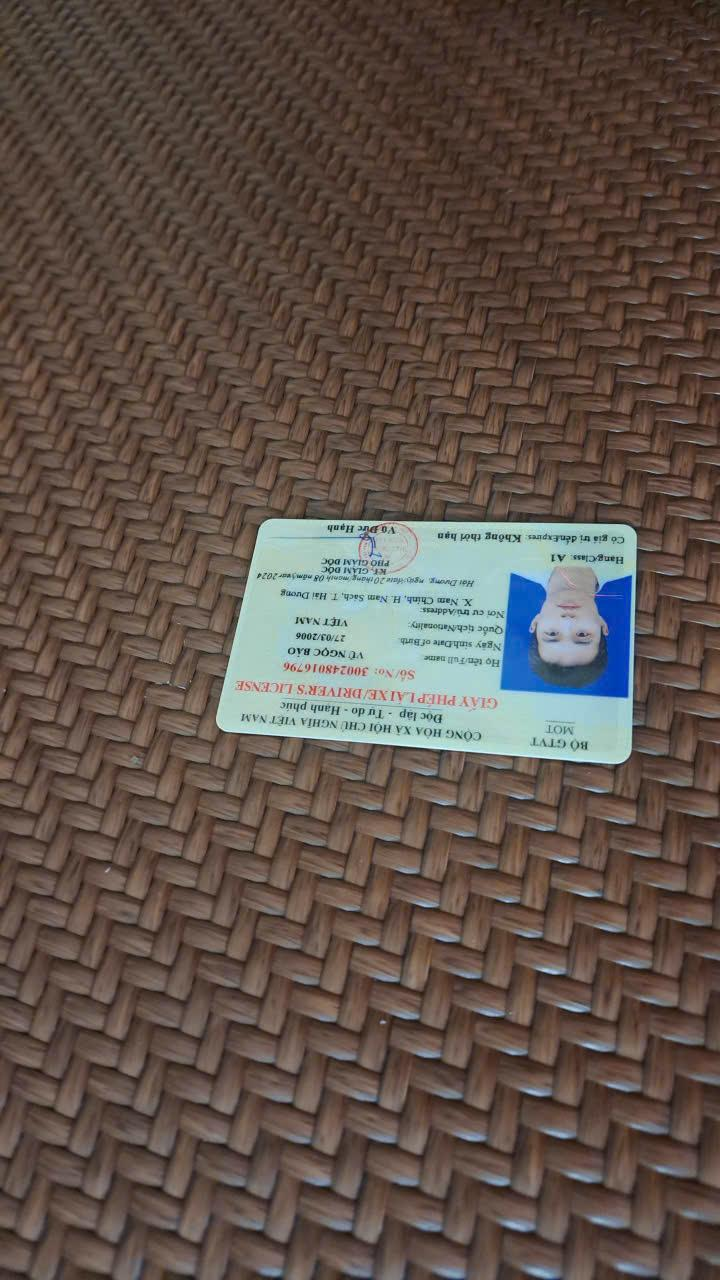gplx: (210, 507, 640, 775)
